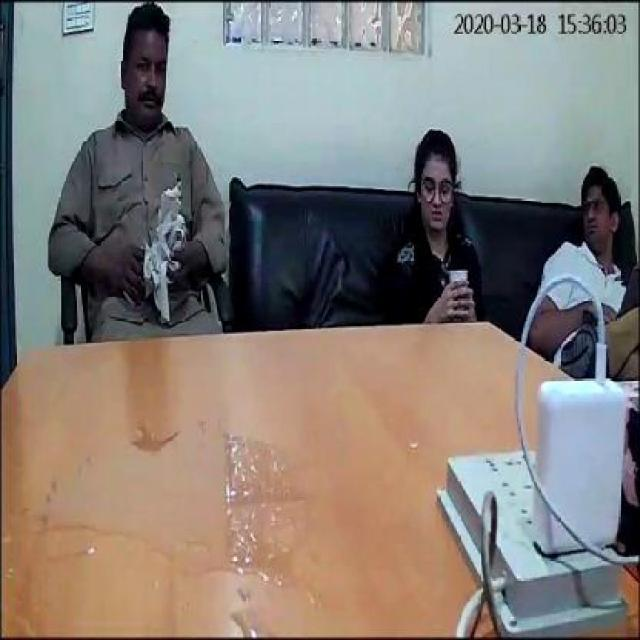spill: (48, 414, 312, 588)
